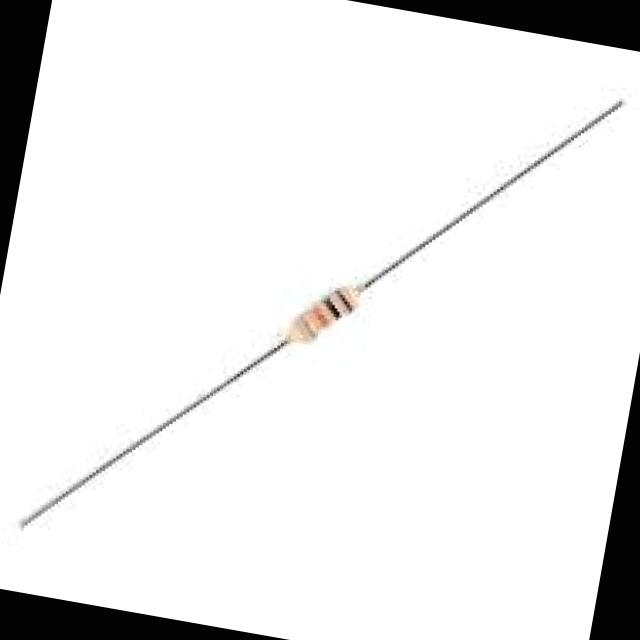Resistor: (263, 282, 374, 357)
black: (321, 296, 341, 319)
